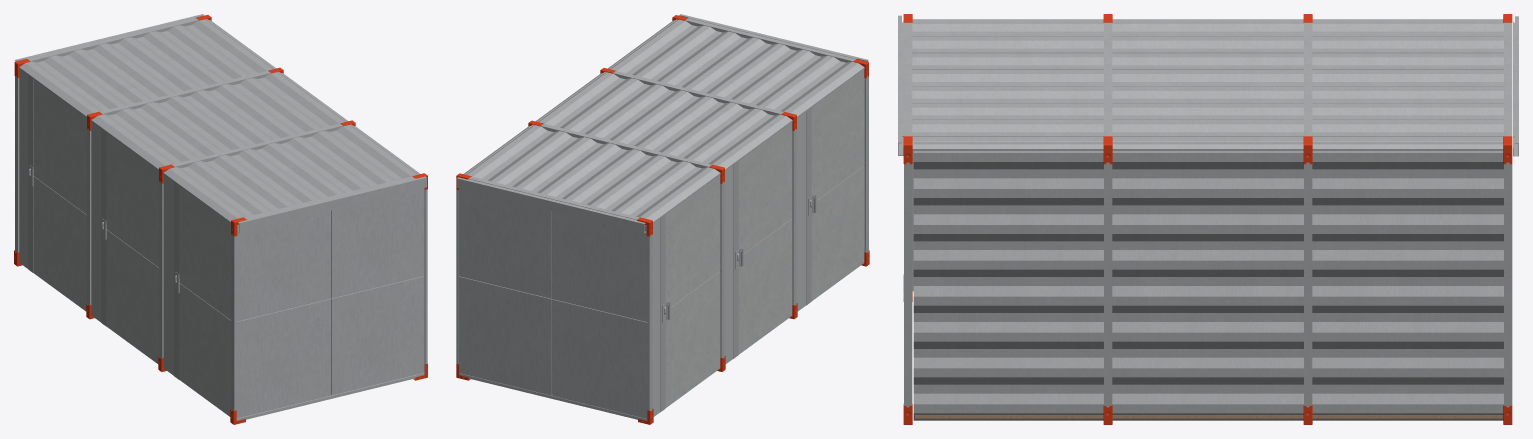
File: 9S3_closed.glb
3 renders of one model, left to right at view 1: azimuth 30°, elevation 25°; view 2: azimuth 150°, elevation 25°; view 3: azimuth 270°, elevation 25°, orthographic. The views are drawn at different scales.
Visible parts, largest first — view 1: doors, celing, Cube.001, frontRim, gutter, corners, gutter.001, back; view 2: doors, celing, Cube, frontRim, gutter.001, corners, gutter, back; view 3: back, celing, frontRim, corners, floor.002, gutter.001, gutter.
Part boxes in pixels (bbox=[...]): doors: bbox=[19, 69, 231, 416]; celing: bbox=[19, 19, 419, 223]; Cube.001: bbox=[236, 187, 424, 418]; frontRim: bbox=[15, 18, 427, 420]; gutter: bbox=[237, 176, 426, 232]; corners: bbox=[14, 15, 427, 424]; gutter.001: bbox=[15, 14, 204, 61]; back: bbox=[205, 19, 418, 174]; doors: bbox=[652, 69, 864, 416]; celing: bbox=[463, 19, 864, 223]; Cube: bbox=[459, 188, 647, 418]; frontRim: bbox=[456, 18, 868, 420]; gutter.001: bbox=[456, 177, 646, 233]; corners: bbox=[456, 15, 869, 424]; gutter: bbox=[679, 14, 868, 61]; back: bbox=[465, 19, 677, 174]; back: bbox=[913, 141, 1503, 420]; celing: bbox=[912, 19, 1503, 150]; frontRim: bbox=[904, 22, 1512, 414]; corners: bbox=[903, 14, 1512, 424]; floor.002: bbox=[915, 415, 1503, 418]; gutter.001: bbox=[1513, 16, 1518, 156]; gutter: bbox=[898, 15, 903, 155].
Size of the model in its own units: 23.27 by 23.06 by 46.25.
9 materials, 8 textured.
